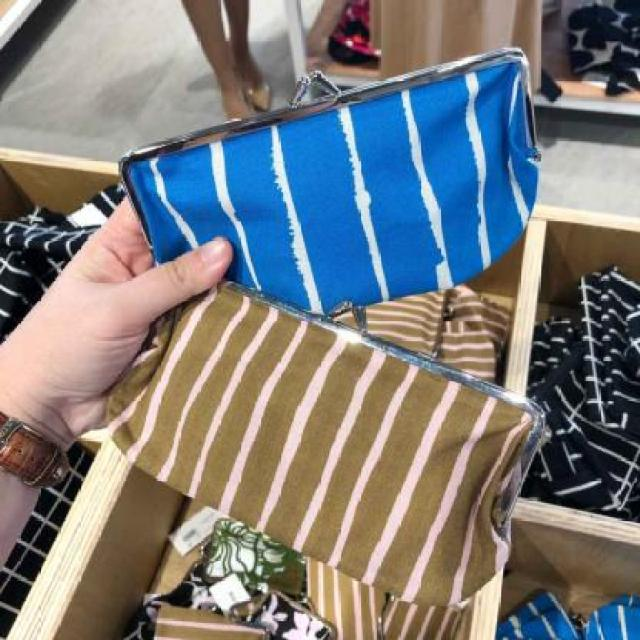Bag: (82, 234, 544, 614), (78, 40, 572, 362)
